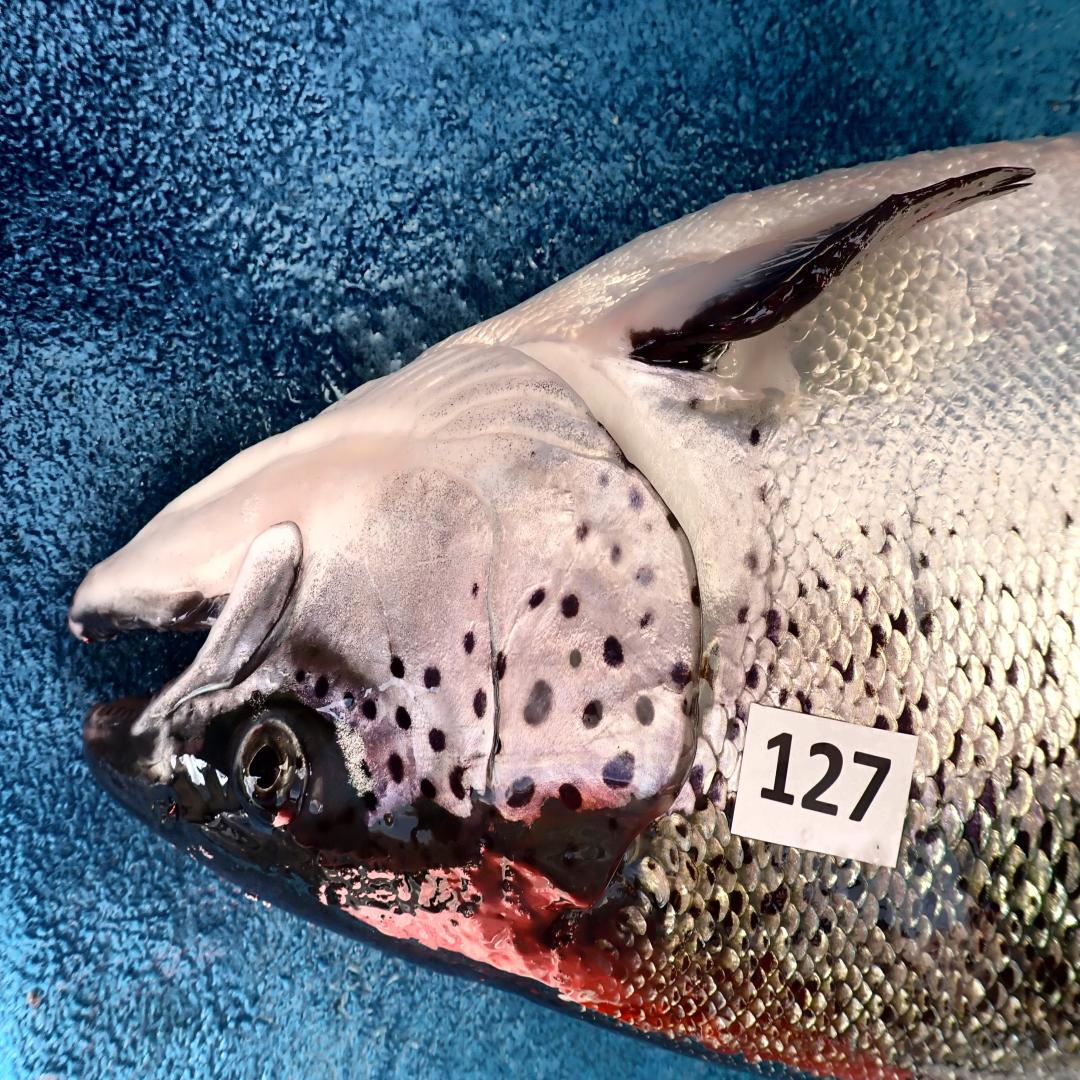spot: (523, 681, 553, 726), (601, 751, 635, 790), (506, 776, 536, 807), (603, 636, 624, 667), (559, 782, 582, 810), (635, 695, 654, 726), (671, 661, 692, 689), (449, 765, 466, 799), (582, 700, 601, 728), (388, 754, 405, 785), (561, 593, 580, 619), (468, 788, 496, 804), (428, 728, 445, 754), (354, 757, 371, 783), (635, 565, 654, 588), (681, 695, 698, 720), (472, 689, 487, 717), (314, 675, 329, 700), (361, 698, 378, 720), (394, 706, 411, 728), (424, 667, 441, 689), (390, 655, 405, 678), (363, 790, 378, 813), (529, 588, 546, 608), (420, 779, 437, 799), (690, 582, 702, 608), (629, 487, 643, 509), (639, 610, 654, 630), (597, 467, 612, 487), (496, 652, 506, 681), (610, 543, 622, 565), (576, 523, 589, 543), (667, 512, 679, 532), (464, 633, 475, 652), (570, 650, 582, 667), (344, 692, 354, 709), (344, 720, 359, 731), (295, 669, 306, 683), (643, 520, 654, 534), (470, 582, 479, 596), (496, 737, 502, 757)
